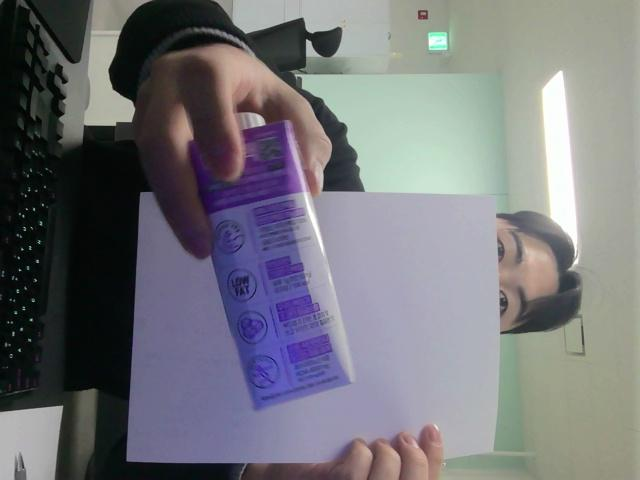milk: (191, 114, 354, 409)
